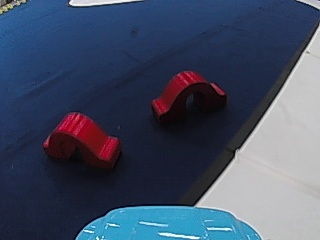bridge: (39, 108, 127, 170), (147, 67, 229, 125)
